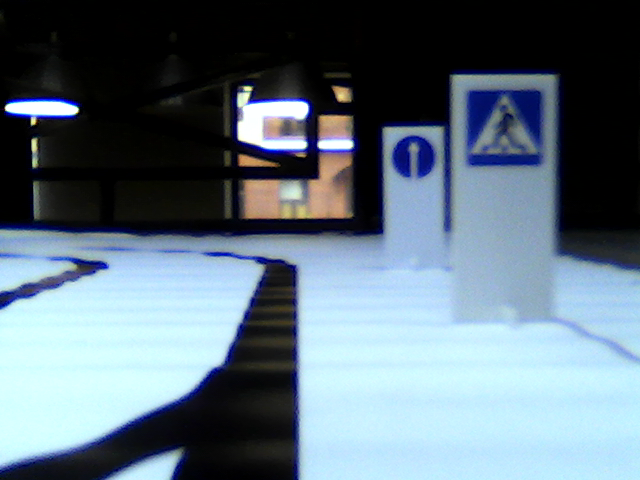forw: (390, 133, 437, 179)
pesh: (466, 88, 541, 165)
